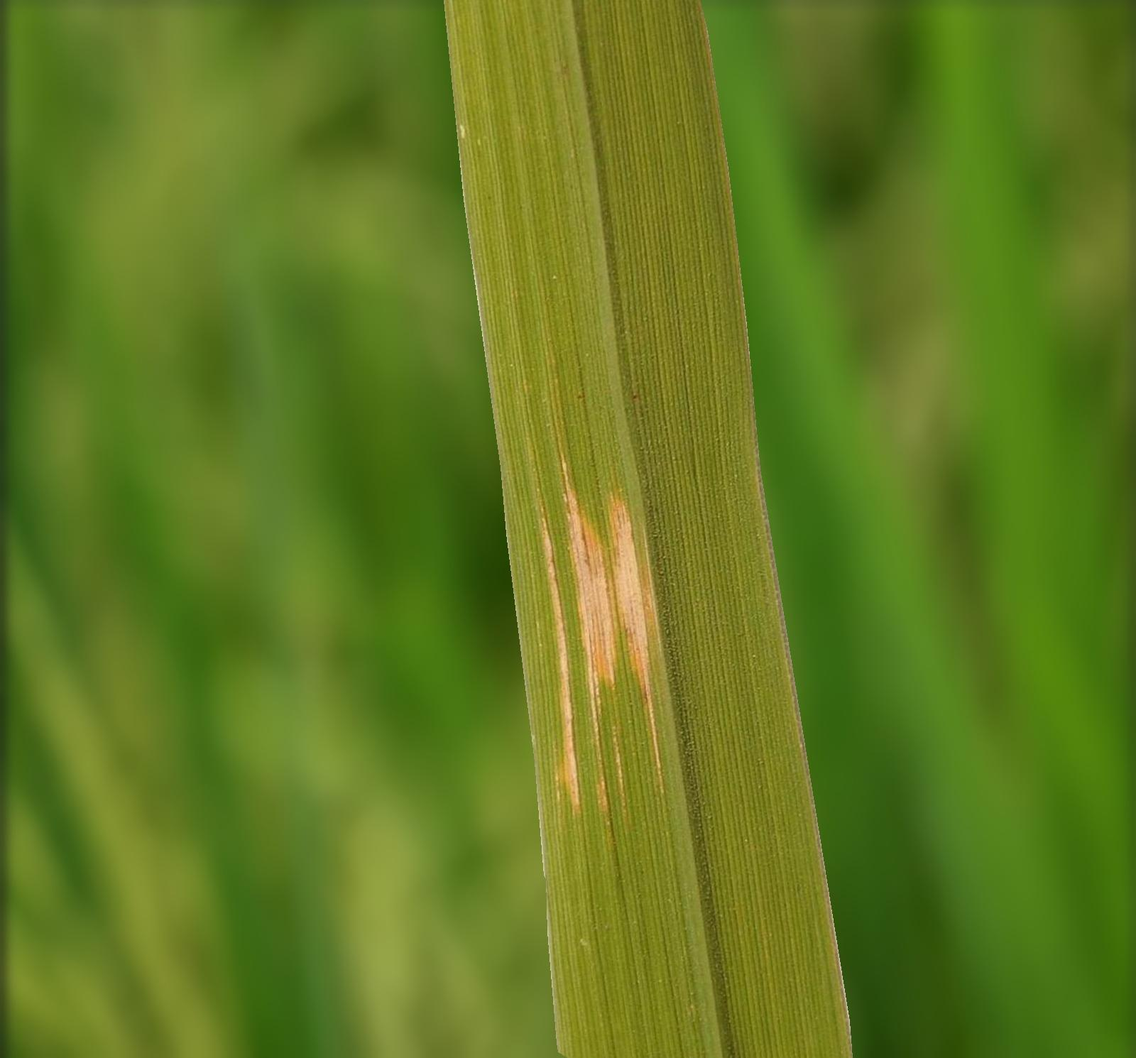BLS: (562, 459, 616, 834), (609, 495, 662, 781), (541, 513, 580, 812)
LEAF: (444, 0, 852, 1057)
